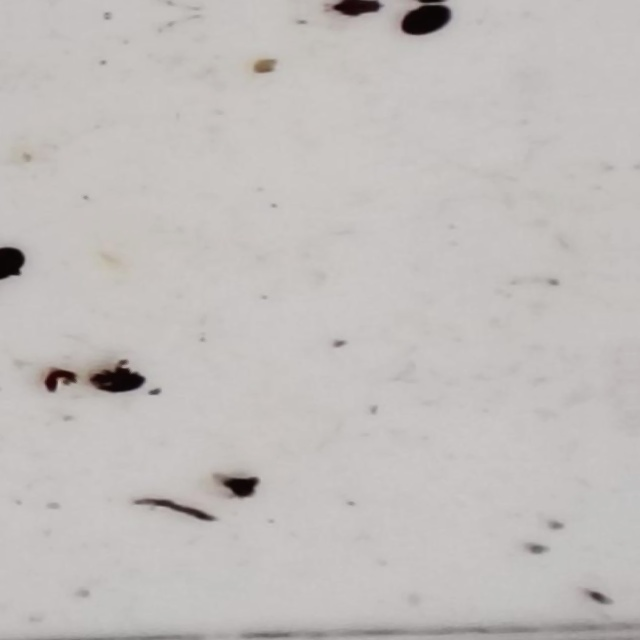varroa: (403, 5, 460, 40), (87, 367, 148, 398)
